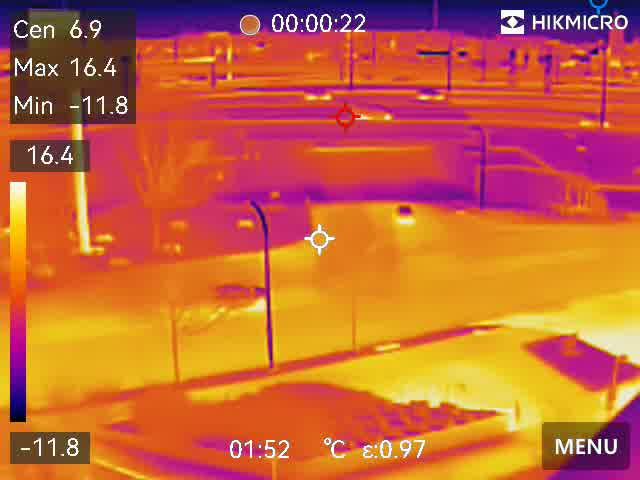vehicle: (214, 279, 276, 314), (346, 105, 396, 125), (409, 86, 445, 107), (389, 200, 417, 226), (575, 114, 615, 131), (298, 88, 332, 106)
